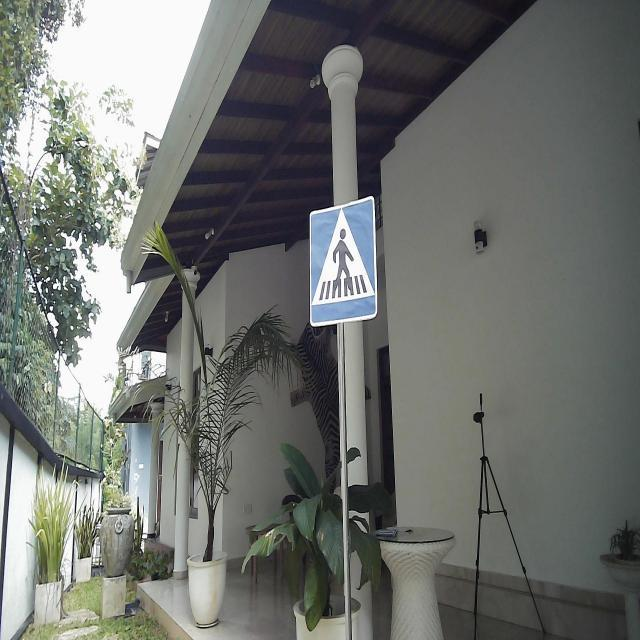crosswalk_sign: (308, 195, 380, 329)
